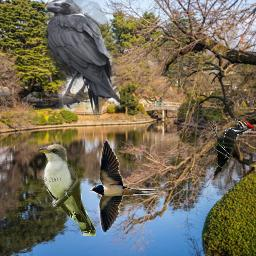Crow: (45, 0, 120, 118)
Cuckoo: (37, 143, 96, 236)
Swallow: (90, 139, 161, 235)
Woodpecker: (211, 118, 254, 180)
